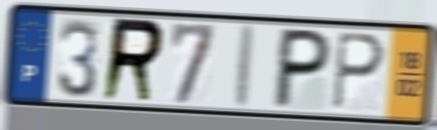3: (56, 15, 99, 101)
7: (168, 19, 218, 108)
I: (230, 21, 259, 112)
P: (269, 25, 335, 111), (330, 30, 388, 113)
R: (98, 15, 168, 106)
